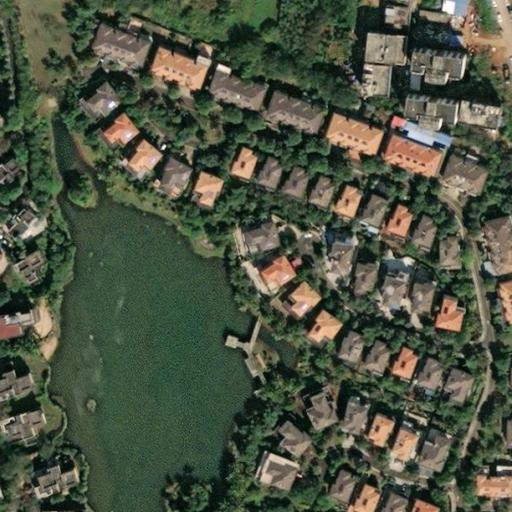building: (140, 41, 201, 87), (257, 84, 318, 129), (81, 20, 142, 65), (315, 105, 375, 150), (199, 62, 259, 107), (375, 126, 433, 171), (476, 210, 512, 270), (433, 149, 482, 191), (403, 23, 456, 54), (249, 444, 289, 483), (396, 74, 450, 102), (90, 105, 131, 140), (73, 76, 114, 110), (297, 381, 329, 423), (148, 150, 184, 187), (266, 413, 304, 448), (118, 131, 154, 167), (409, 426, 443, 464), (283, 270, 316, 306), (300, 299, 336, 332), (451, 83, 493, 111), (0, 399, 35, 432), (4, 241, 36, 277), (320, 458, 349, 497), (29, 457, 69, 485), (253, 244, 289, 275), (186, 163, 216, 200), (382, 419, 412, 455), (343, 476, 373, 512), (438, 360, 466, 398), (427, 287, 455, 325), (468, 463, 507, 490), (370, 266, 400, 301), (356, 330, 385, 366), (333, 391, 361, 428), (236, 215, 272, 243), (329, 323, 359, 356), (248, 149, 276, 181), (299, 167, 327, 199), (401, 275, 428, 308), (0, 200, 28, 231), (222, 140, 250, 171), (274, 158, 301, 190), (403, 206, 430, 238), (377, 196, 404, 228), (326, 178, 353, 210), (352, 188, 379, 220), (383, 338, 410, 369), (346, 253, 370, 287), (409, 352, 435, 383), (395, 114, 433, 135), (430, 227, 455, 258), (0, 297, 26, 326), (496, 276, 512, 323), (359, 408, 383, 438), (322, 234, 345, 265), (371, 487, 398, 512), (401, 491, 432, 512), (357, 17, 377, 47), (364, 55, 381, 84), (410, 9, 439, 24), (399, 124, 425, 140), (374, 23, 390, 48), (499, 411, 512, 441), (354, 53, 366, 80), (41, 503, 75, 512), (418, 48, 437, 62), (388, 24, 398, 49), (118, 21, 134, 35), (208, 57, 225, 68), (383, 110, 398, 122), (353, 104, 365, 118), (430, 127, 444, 139), (0, 150, 9, 167), (342, 101, 353, 114), (476, 259, 484, 272)
